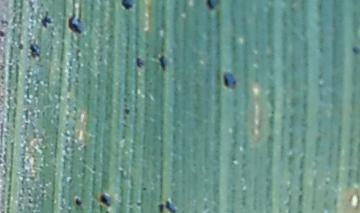tarspot: (66, 14, 86, 35), (39, 9, 52, 29), (221, 72, 237, 88), (28, 41, 41, 59), (98, 193, 114, 207), (163, 197, 177, 213), (119, 1, 136, 12), (204, 1, 220, 12), (158, 55, 167, 71), (134, 56, 145, 69), (351, 45, 360, 56), (74, 195, 82, 205), (157, 203, 165, 213), (17, 42, 25, 50), (1, 19, 10, 26), (123, 108, 131, 115), (135, 200, 143, 207), (1, 29, 6, 40), (103, 208, 111, 213), (141, 186, 147, 192)
